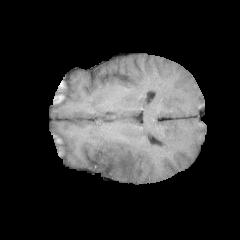glioma: (92, 139, 139, 179)
